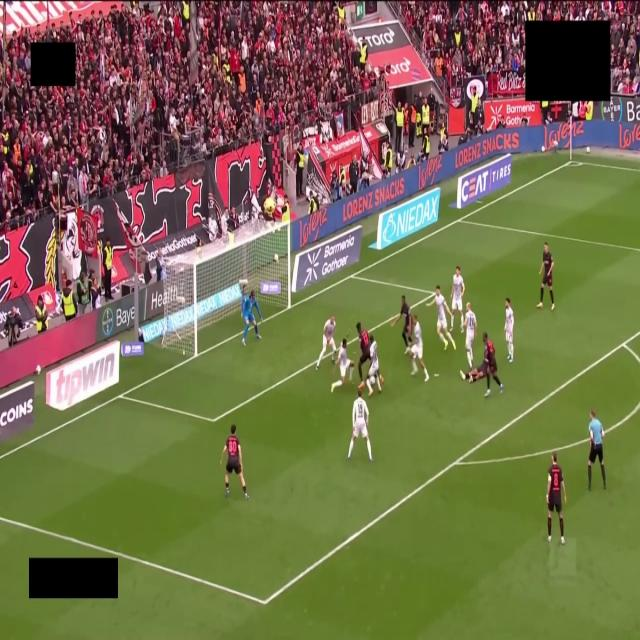player: (460, 333, 503, 397), (221, 424, 248, 499), (347, 389, 373, 463), (427, 286, 455, 350), (547, 452, 566, 544), (483, 332, 503, 397), (331, 338, 354, 392), (411, 314, 429, 382), (537, 243, 554, 311), (241, 290, 262, 345), (392, 296, 411, 353), (316, 316, 336, 369), (366, 334, 383, 396), (356, 322, 370, 389), (451, 266, 465, 332), (463, 303, 477, 368), (460, 361, 487, 383), (505, 298, 514, 362)
referee: (588, 410, 606, 490)
